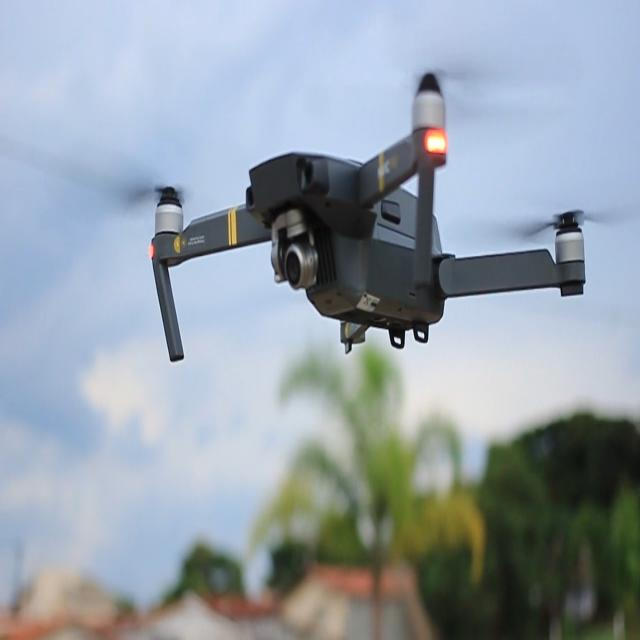Drone: (149, 70, 588, 362)
